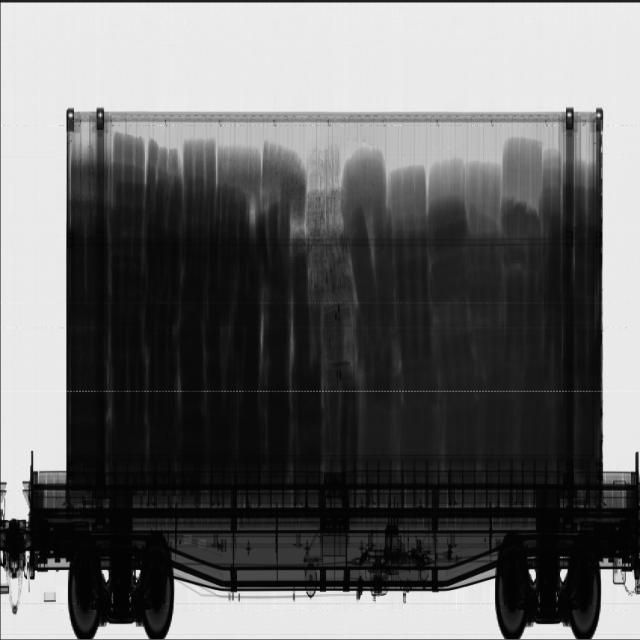clothes: (69, 132, 597, 469)
shoes: (304, 147, 351, 310)
textiles: (218, 140, 304, 197)
